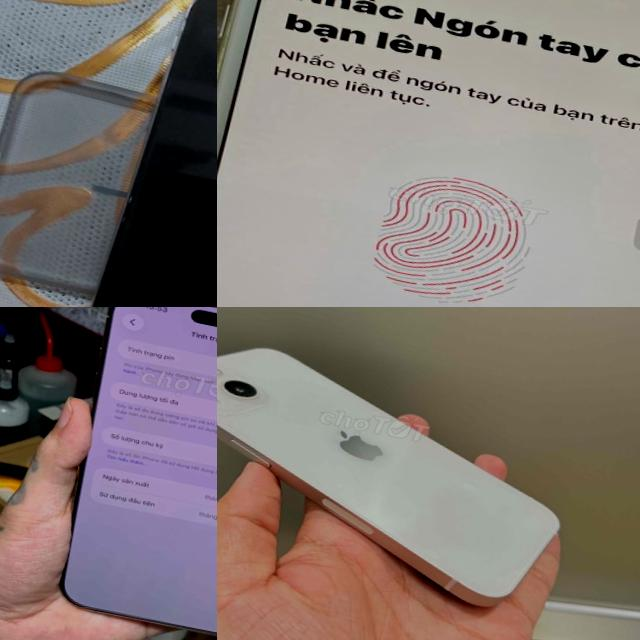gen_12_13: (217, 322, 589, 621)
gen_16: (61, 307, 217, 635)
gen_7_8: (217, 0, 640, 307)
gen_x_xs: (44, 0, 217, 307)
